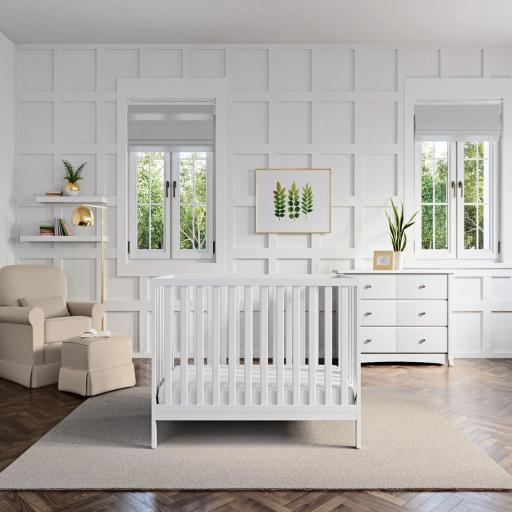crib: (152, 276, 360, 448)
